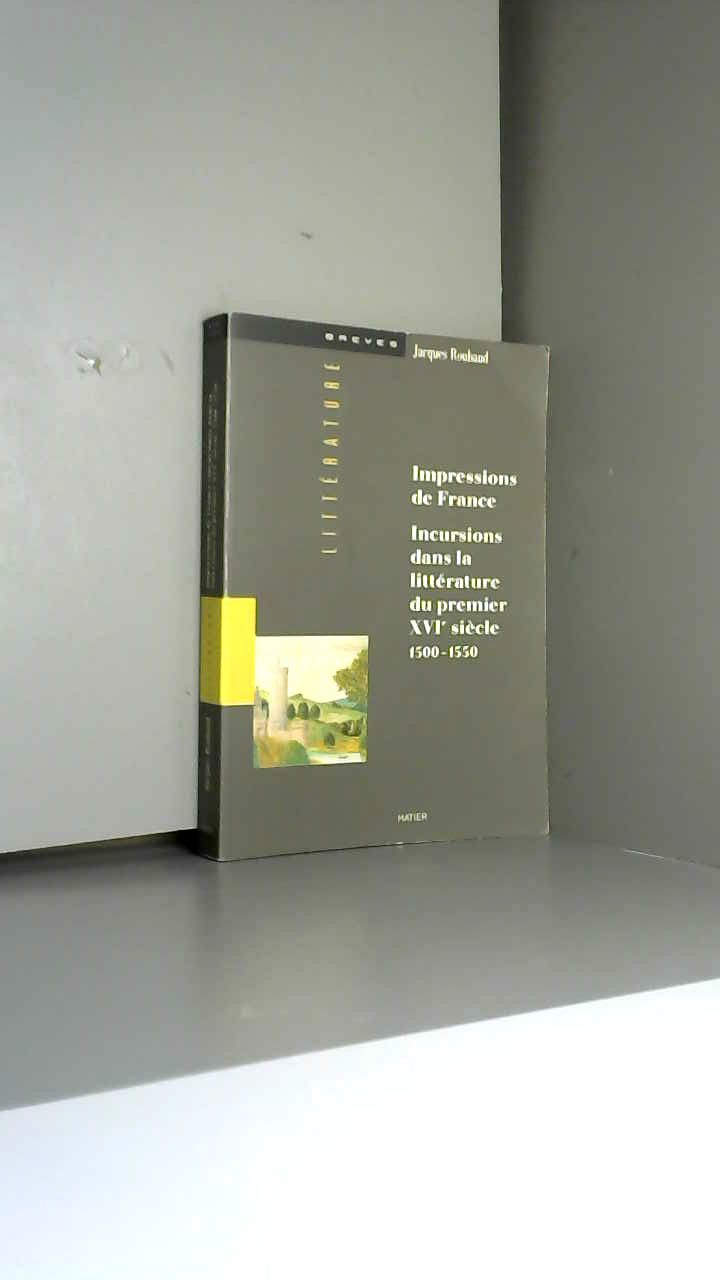book: (156, 262, 599, 900)
